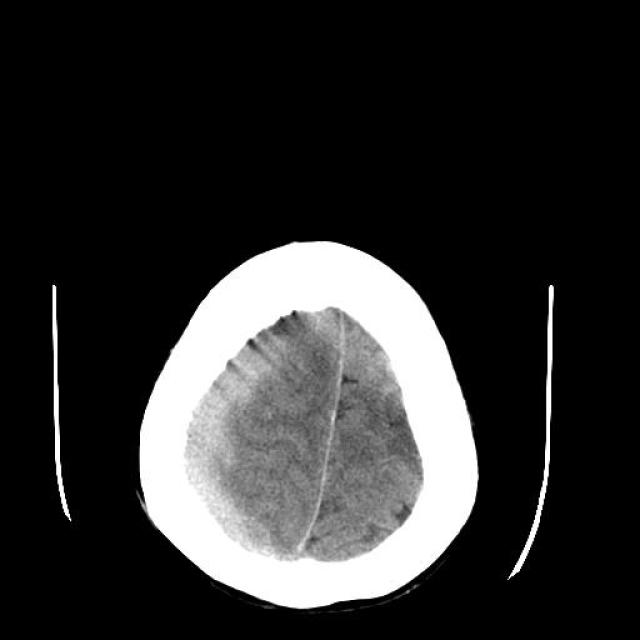Subdural: (166, 315, 312, 555)
